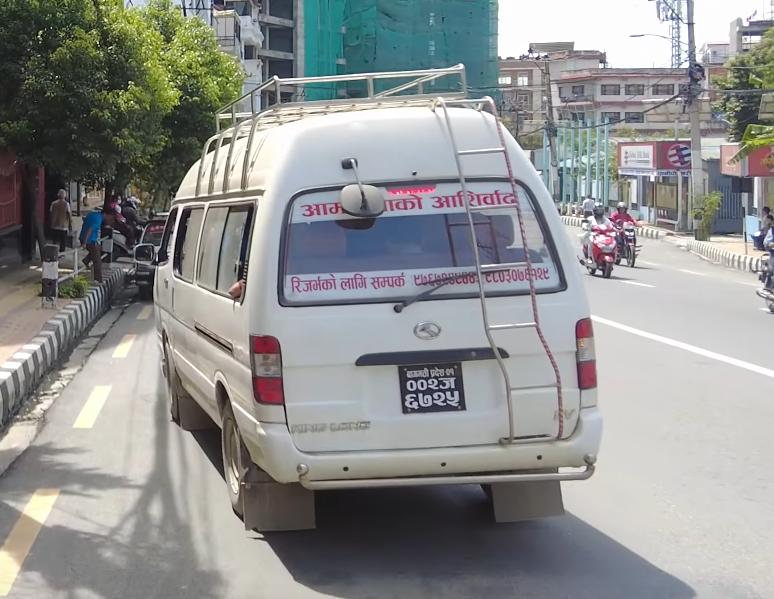bike: (613, 214, 645, 272)
micro_bus: (142, 84, 616, 556)
scooter: (581, 218, 616, 279)
